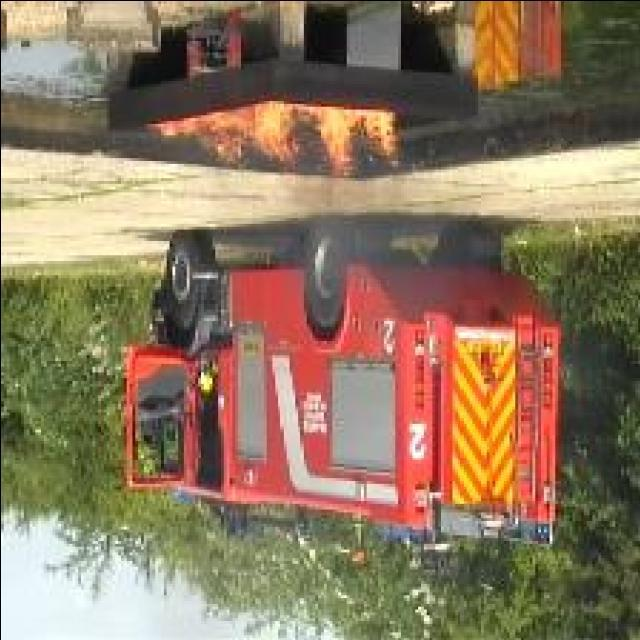Fire: (143, 97, 400, 174)
